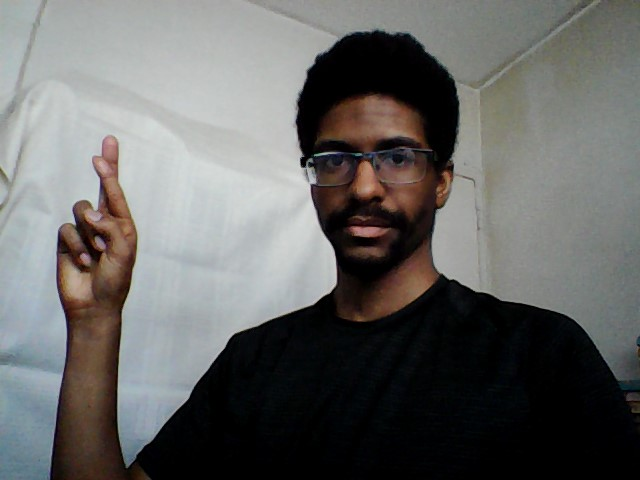r: (50, 132, 142, 321)
